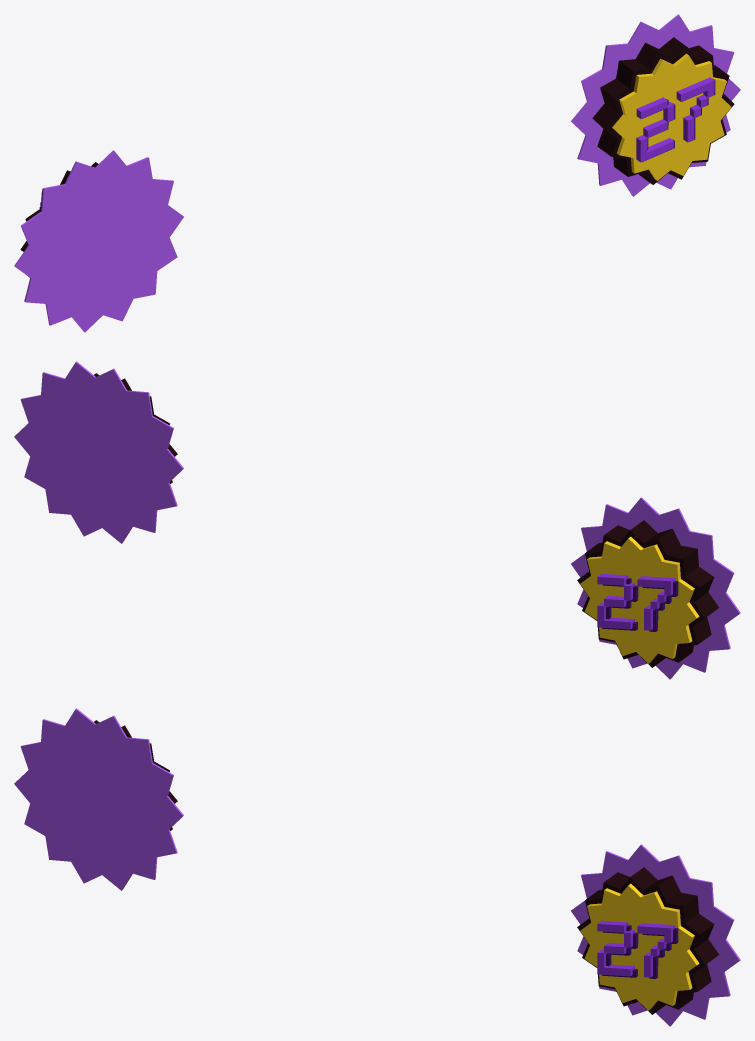
The model's file is badge27.glb.
The picture shows the model from 3 angles, top to bottom: view 1: azimuth 30°, elevation 25°; view 2: azimuth 150°, elevation 25°; view 3: azimuth 330°, elevation 25°; orthographic projection.
Parts seen in each view (by area): view 1: back_halo, front_body, front_halo, front_outline, front_digit; view 2: front_halo, back_body, back_halo, back_outline, back_digit, back_digit_shadow; view 3: back_halo, front_body, front_halo, front_outline, front_digit, front_digit_shadow.
Part boxes in pixels (<box>): back_halo: <box>14,150,183,332</box>; front_body: <box>612,53,731,180</box>; front_halo: <box>571,14,740,196</box>; front_outline: <box>592,37,734,184</box>; front_digit: <box>636,77,714,162</box>; front_halo: <box>14,361,183,543</box>; back_body: <box>580,536,699,663</box>; back_halo: <box>571,497,740,679</box>; back_outline: <box>577,520,719,667</box>; back_digit: <box>597,573,675,630</box>; back_digit_shadow: <box>602,578,678,631</box>; back_halo: <box>14,708,183,890</box>; front_body: <box>580,883,699,1010</box>; front_halo: <box>571,844,740,1026</box>; front_outline: <box>577,867,719,1014</box>; front_digit: <box>597,920,675,977</box>; front_digit_shadow: <box>602,925,678,978</box>.
Size of what is drawn, in the model's own units: 7.69 by 1.77 by 0.8.
